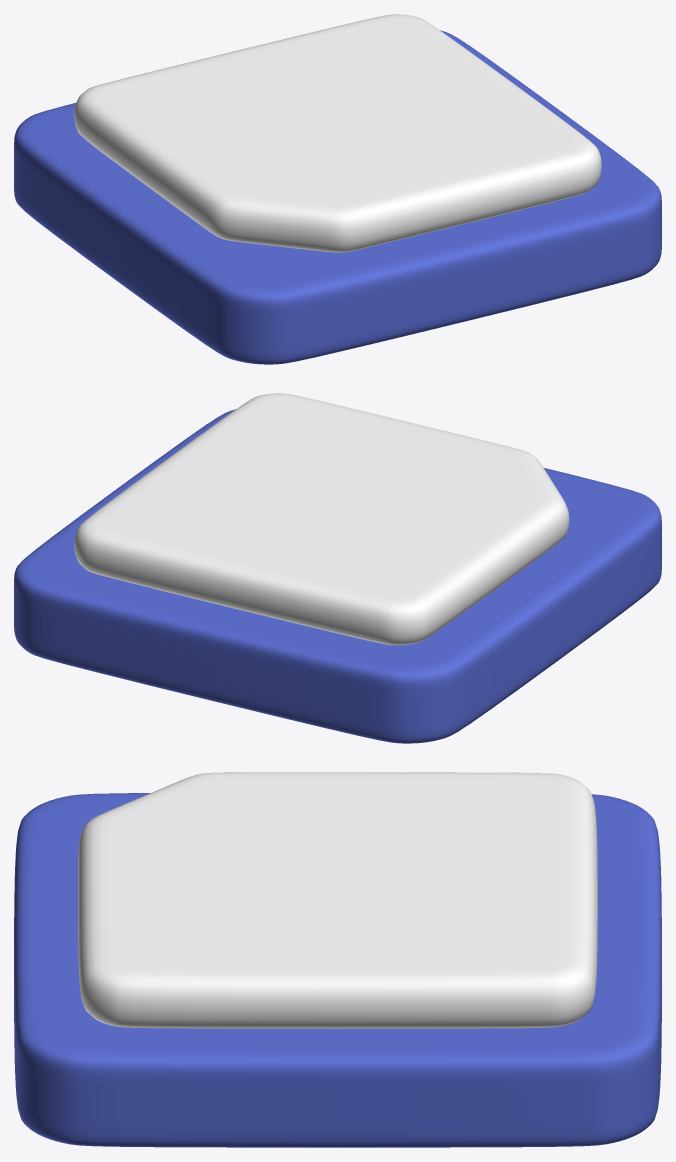
File: baseModelF.glb
3 views of the same model, one above another, from view 1: azimuth 30°, elevation 25°; view 2: azimuth 150°, elevation 25°; view 3: azimuth 270°, elevation 25° (orthographic). The views are drawn at different scales.
Parts seen in each view (by area): view 1: Plane007, Plane008; view 2: Plane007, Plane008; view 3: Plane007, Plane008.
Boxes of the visible parts, <box> form: Plane007: <box>74,14,601,252</box>; Plane008: <box>14,30,661,364</box>; Plane007: <box>74,393,569,645</box>; Plane008: <box>14,409,661,743</box>; Plane007: <box>78,772,597,1028</box>; Plane008: <box>14,793,661,1147</box>.
Bounding box in the file's own units: 1 × 0.2407 × 1.
